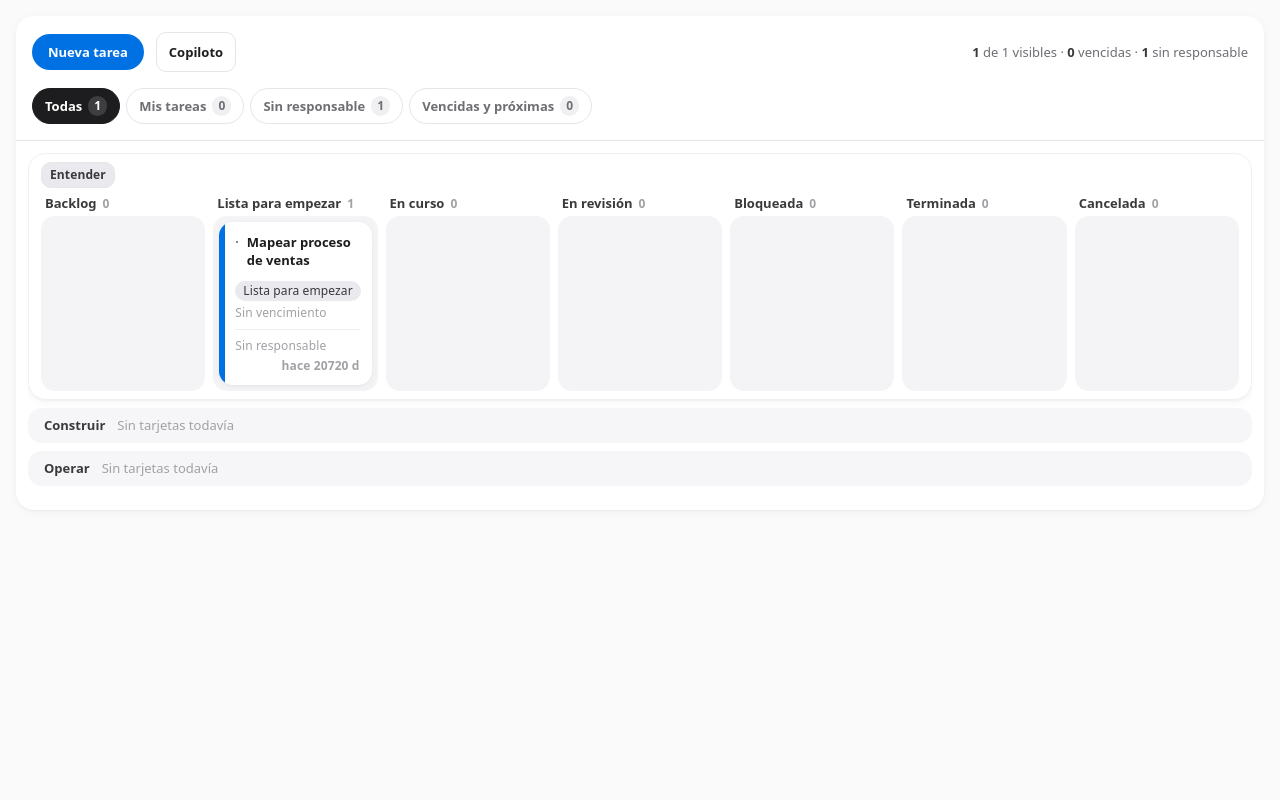
Botón de alta en el tablero › board-new-task abre create-task-dialog
The image size is (1280, 800).
Click the button with test id "board-new-task" at (88, 52), box [32,34,144,70]
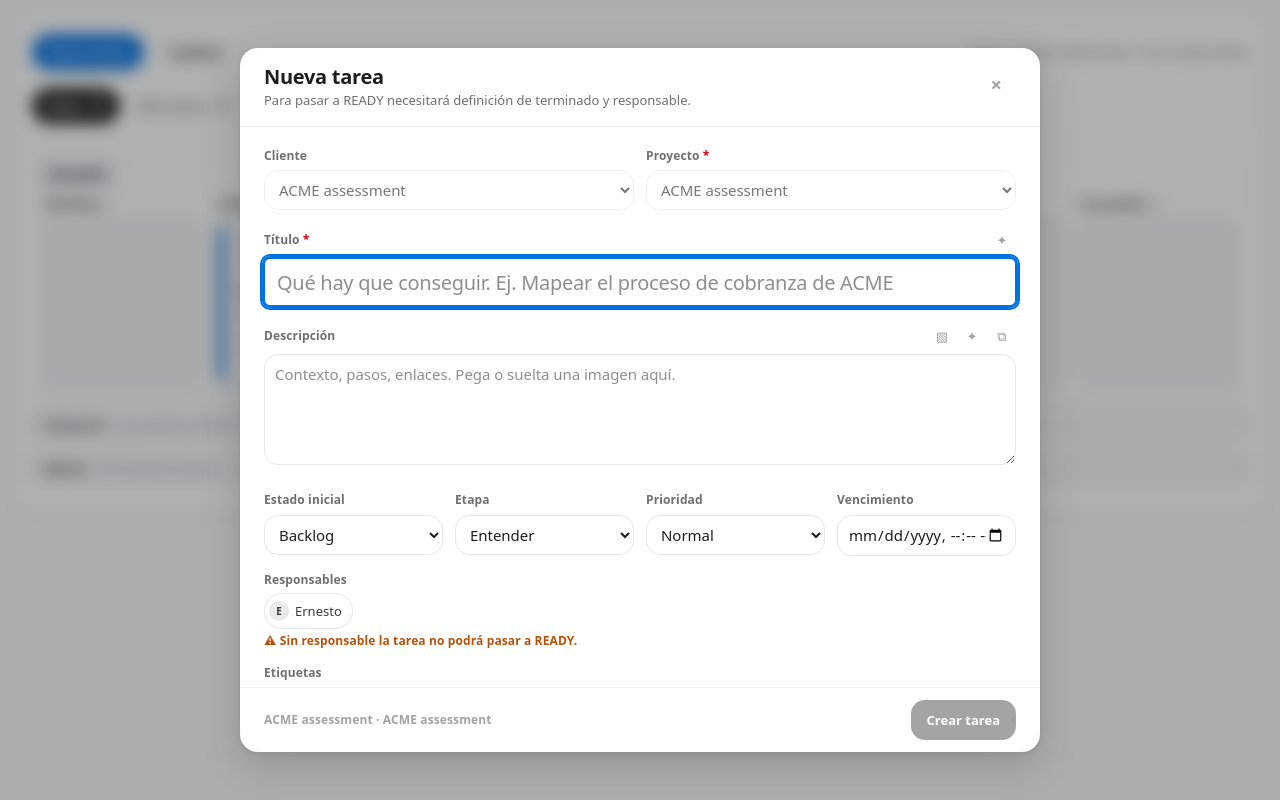
expect the dialog with test id "create-task-dialog" is shown: met, box [240,48,1040,752]
